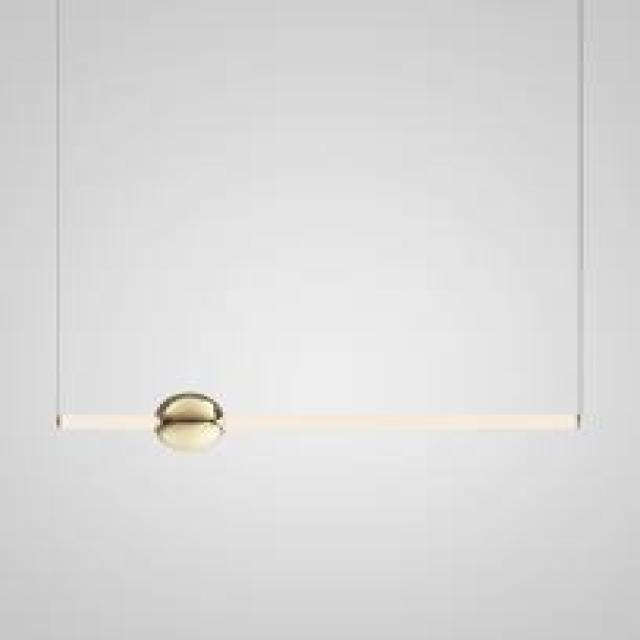tubelight_off: (52, 400, 587, 436)
